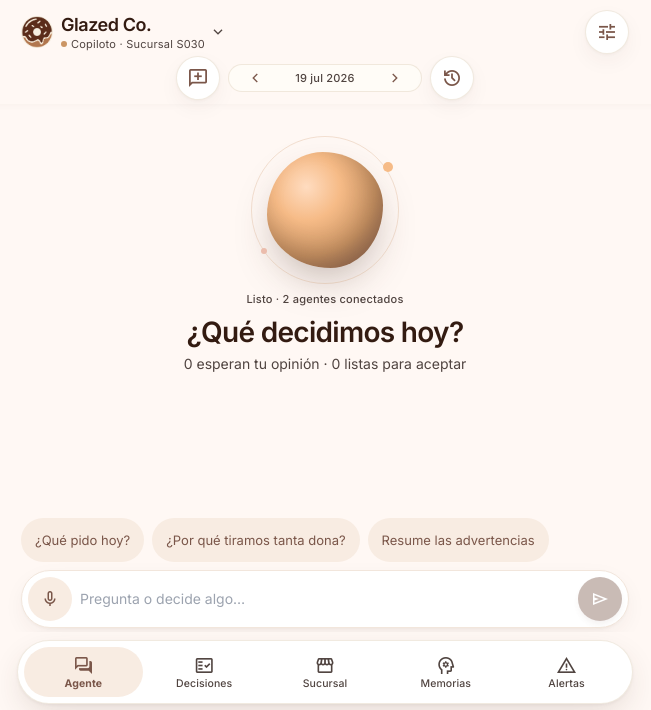
Test case: Memorias window › filters by category and by search text
Click the button "Memorias" at (446, 672), box [386, 647, 505, 697]
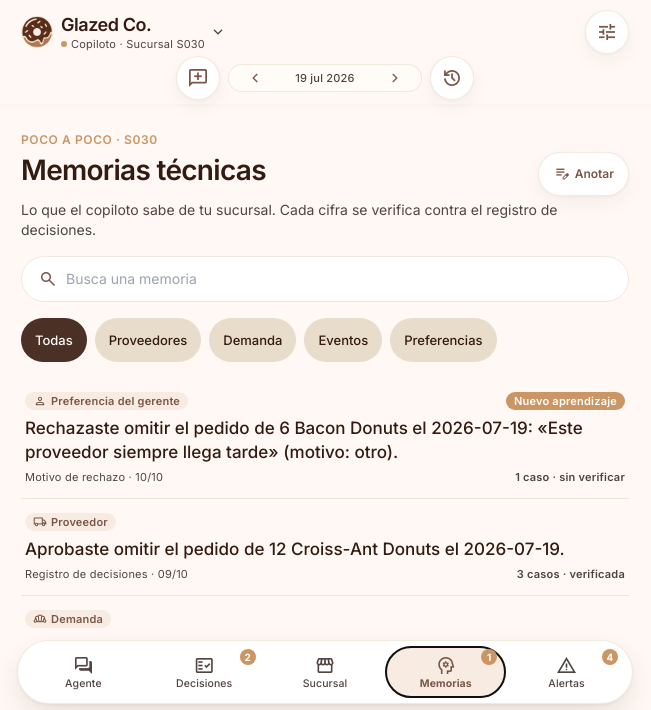
Expected: the text "Aprobaste omitir" is shown, [25, 539, 565, 559]
Click the button "Proveedores" at (148, 340), box [95, 318, 201, 362]
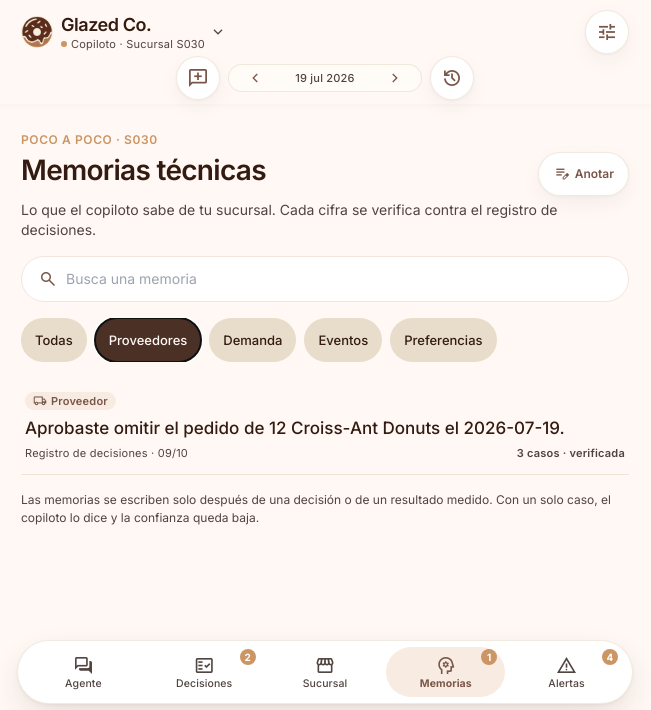
Expected: the text "Aprobaste omitir" is shown, [25, 418, 565, 438]
Expected: the text "Bacon Donuts" is gone
Click the button "Todas" at (54, 340), box [21, 318, 87, 362]
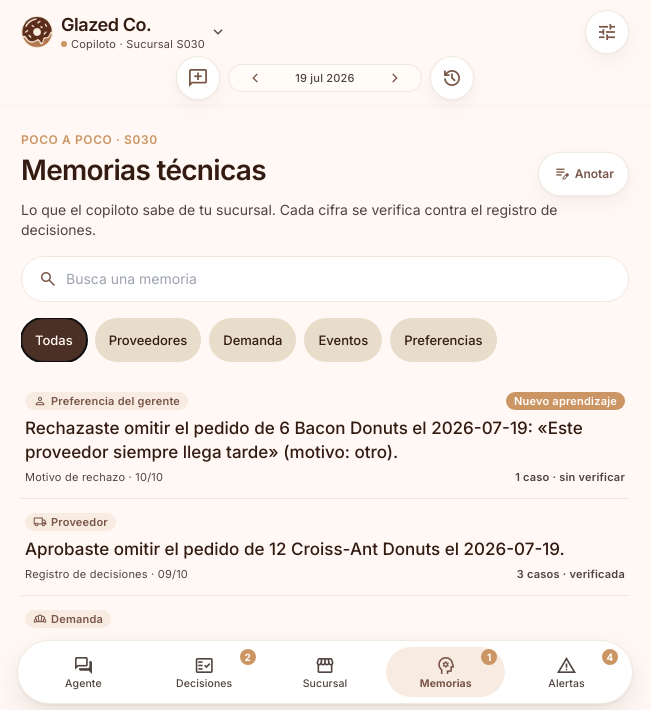
Type "bacon" into the search field named "Buscar una memoria" at (339, 279), box [66, 269, 612, 289]
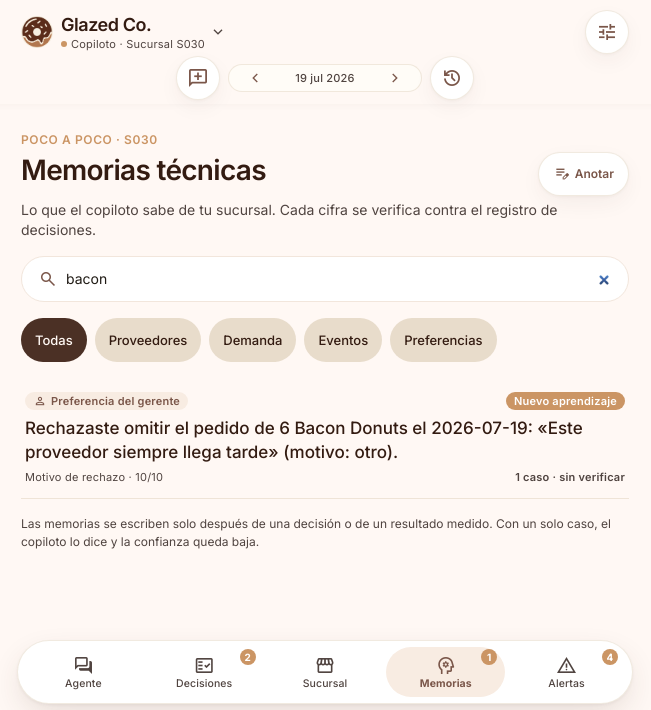
Expected: the text "Bacon Donuts" is shown, [25, 418, 583, 462]
Expected: the text "Aprobaste omitir" is gone
